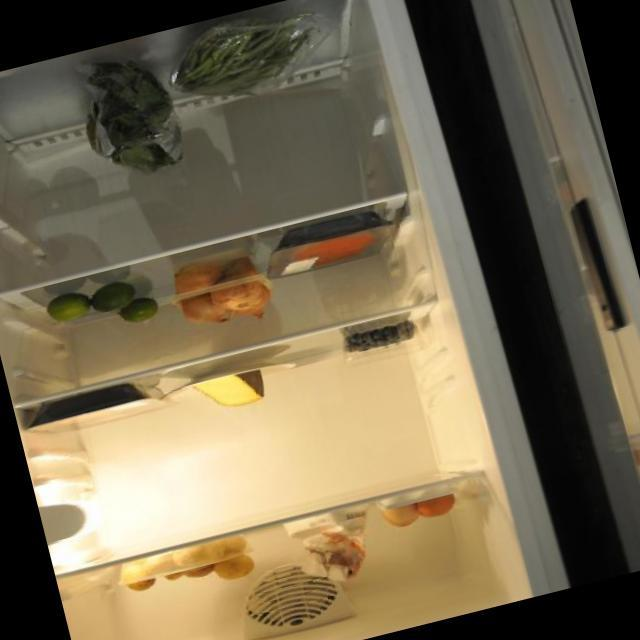Carne vacuno: (278, 209, 390, 279)
Cebolla: (159, 238, 278, 335)
Huevos: (371, 479, 461, 534)
Patata: (111, 530, 257, 610)
Queso: (190, 363, 267, 417)
blueberries: (337, 314, 424, 363)
flour: (279, 501, 384, 595)
green_beans: (167, 0, 329, 112)
lime: (35, 269, 163, 347)
spinach: (73, 37, 190, 192)
